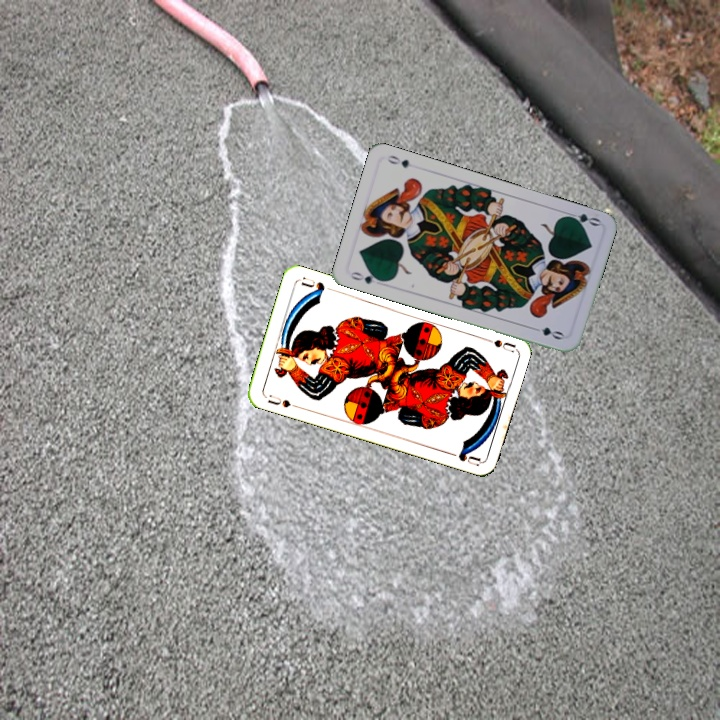GO: (561, 208, 603, 229), (347, 268, 387, 287)
SU: (476, 333, 517, 354), (261, 390, 301, 410)
